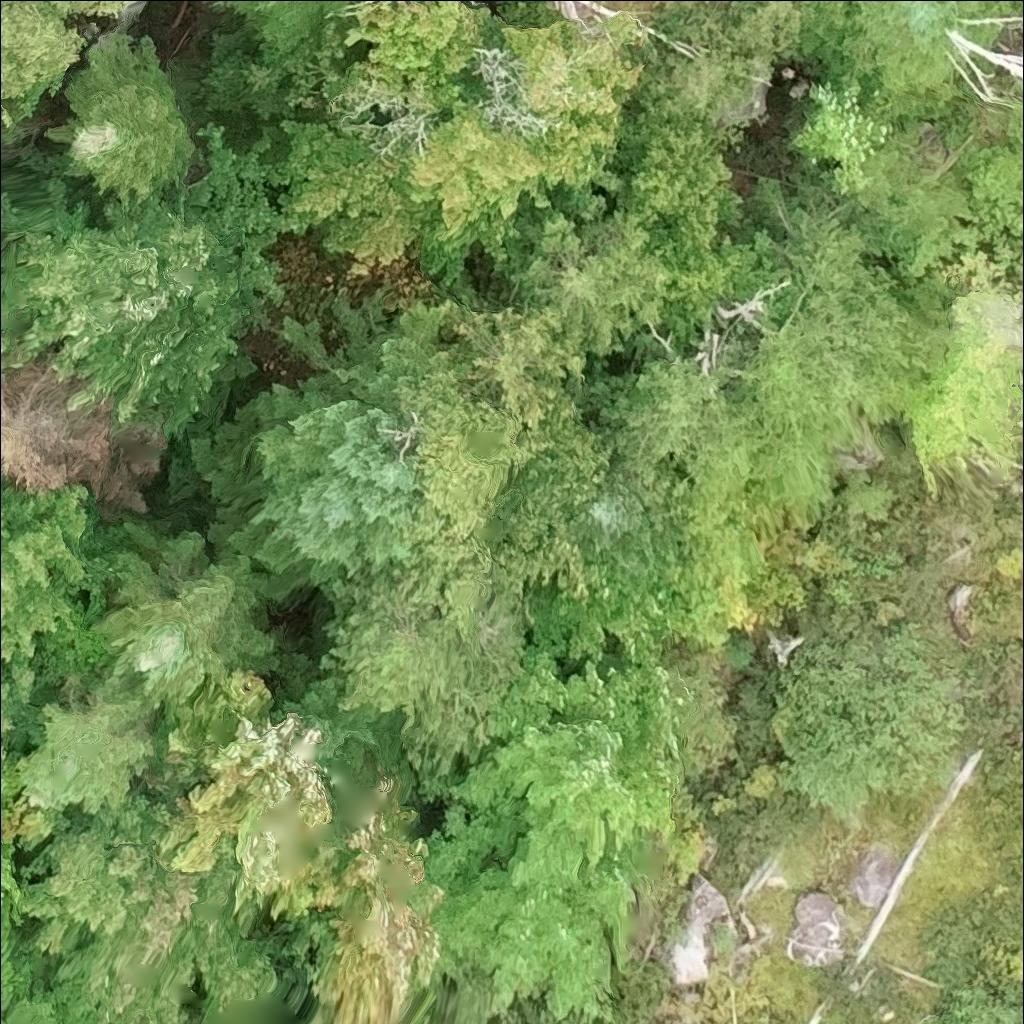crown: (42, 27, 194, 206), (0, 0, 119, 117), (207, 0, 348, 57)
